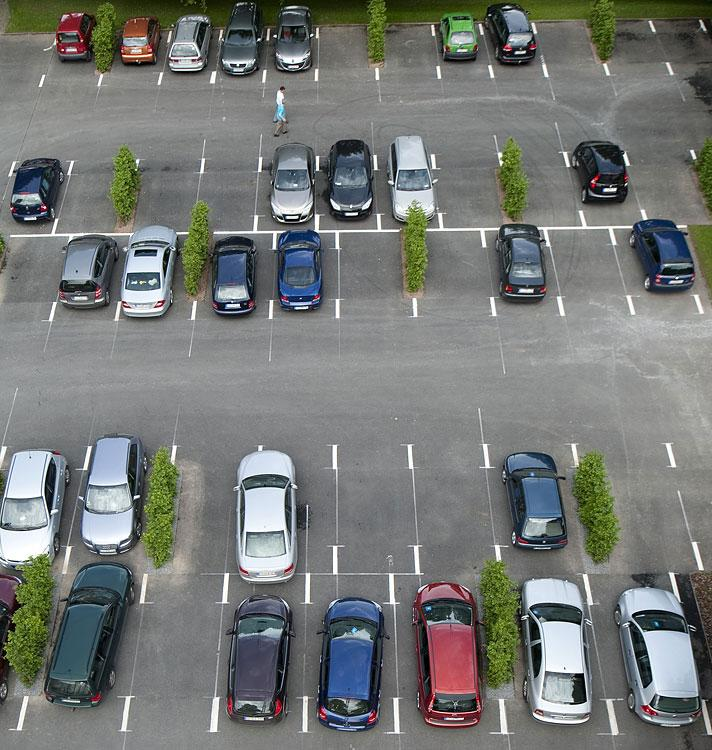occupied: (16, 572, 151, 733), (585, 574, 711, 734), (480, 439, 601, 570), (60, 444, 178, 577), (213, 574, 308, 732), (305, 574, 397, 733), (607, 223, 706, 315), (114, 232, 207, 320), (191, 231, 278, 321), (51, 235, 132, 320), (483, 228, 562, 314), (565, 153, 651, 228), (270, 232, 337, 317), (375, 156, 441, 230), (255, 157, 318, 232), (317, 156, 379, 231), (478, 20, 550, 79), (159, 31, 221, 83), (433, 25, 492, 78), (212, 30, 269, 81), (263, 29, 318, 80)
vacant: (571, 440, 706, 580), (123, 575, 226, 730), (410, 445, 501, 573), (335, 446, 418, 574), (410, 228, 498, 317), (545, 228, 633, 314), (336, 227, 418, 318), (496, 151, 588, 230), (49, 158, 141, 237), (430, 152, 520, 231), (122, 157, 207, 235), (589, 18, 677, 78), (193, 159, 260, 232), (531, 19, 611, 78), (373, 23, 442, 82), (314, 22, 380, 82)
